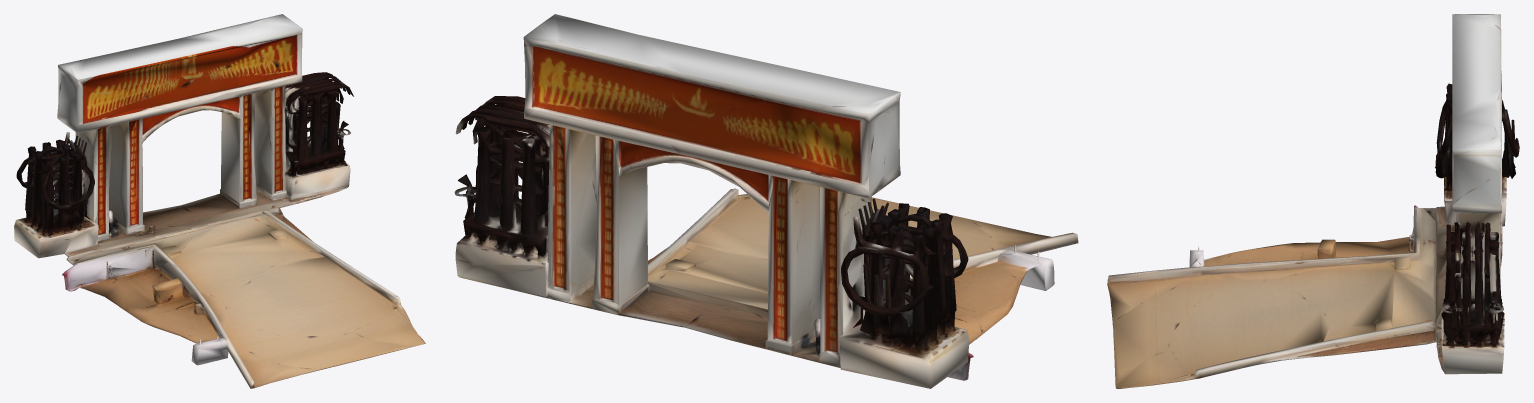
File: porte_du_non_retour.opt.glb
3 views of the same model, side by side, from view 1: azimuth 30°, elevation 25°; view 2: azimuth 150°, elevation 25°; view 3: azimuth 270°, elevation 25° (orthographic). The views are drawn at different scales.
Parts seen in each view (by area): view 1: node_0; view 2: node_0; view 3: node_0.
Part boxes in pixels (x1,y1,x2,y2): node_0: (14,14,425,388); node_0: (454,14,1078,388); node_0: (1107,14,1519,388).
Bounding box in the file's own units: 0.8699 × 0.5574 × 0.8211.
1 material, 1 textured.
